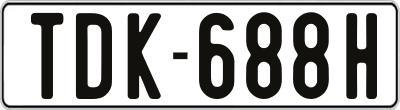6: (197, 12, 234, 99)
8: (292, 12, 331, 100), (245, 12, 281, 103)
D: (75, 13, 111, 99)
H: (344, 13, 381, 99)
K: (127, 10, 162, 100)
T: (28, 11, 66, 100)
